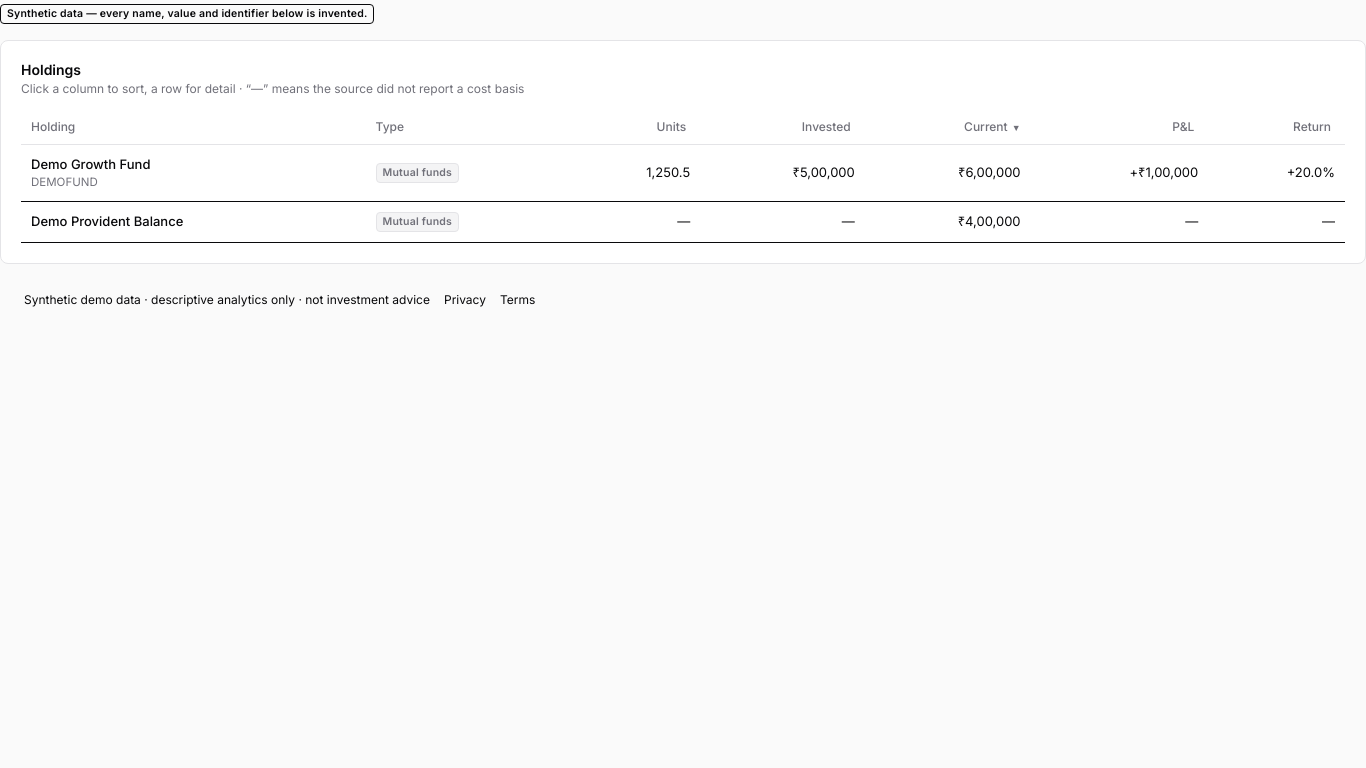
Test: per-holding detail dialog › opens from a row click with every figure the row carried
Expected: the text "Demo Growth Fund" is shown, x1=31 y1=156 x2=150 y2=172
Click the button with aria-label "Details for Demo Growth Fund" at (683, 173), box x1=21 y1=144 x2=1345 y2=202
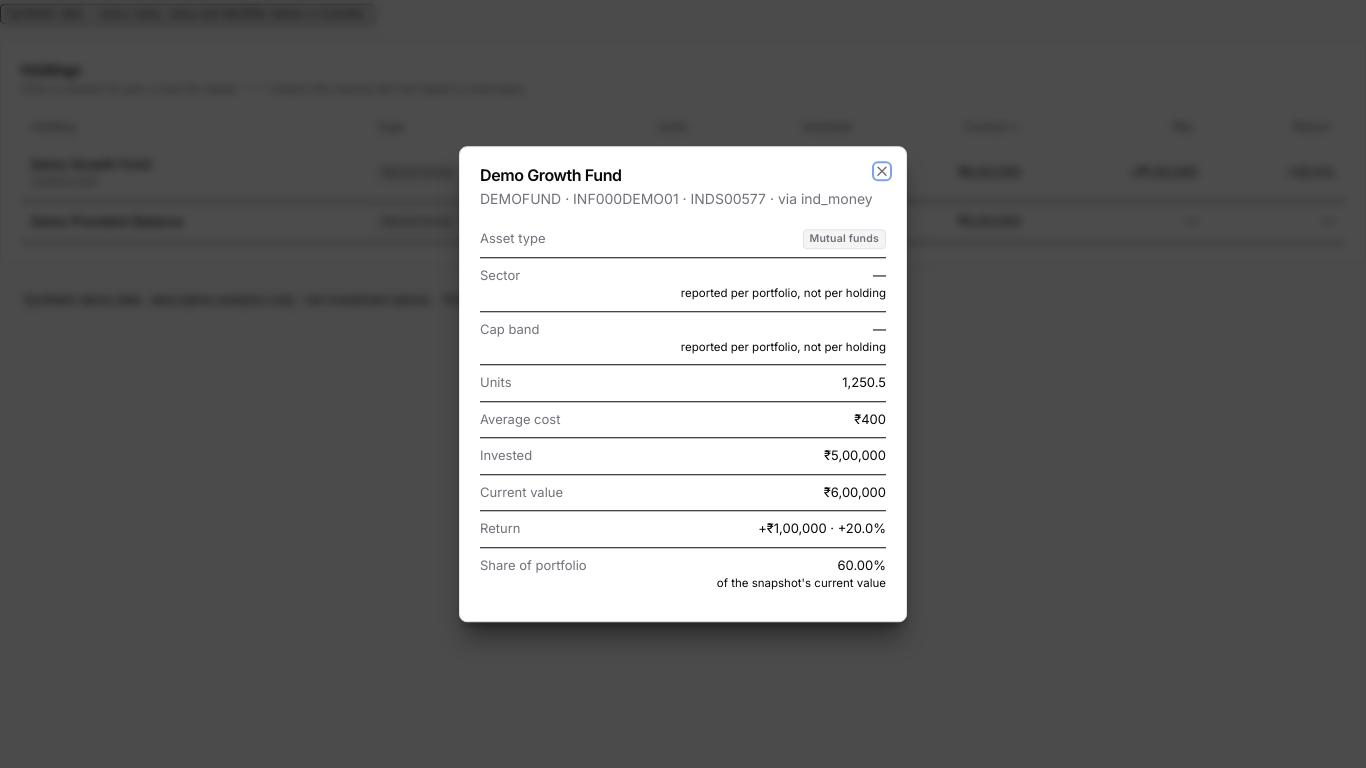
Expected: the dialog shows "Demo Growth Fund", x1=480 y1=165 x2=622 y2=185
Expected: the dialog shows "DEMOFUND · INF000DEMO01 · INDS00577", x1=480 y1=190 x2=766 y2=207
Expected: the text "1,250.5" is shown, x1=842 y1=374 x2=886 y2=393
